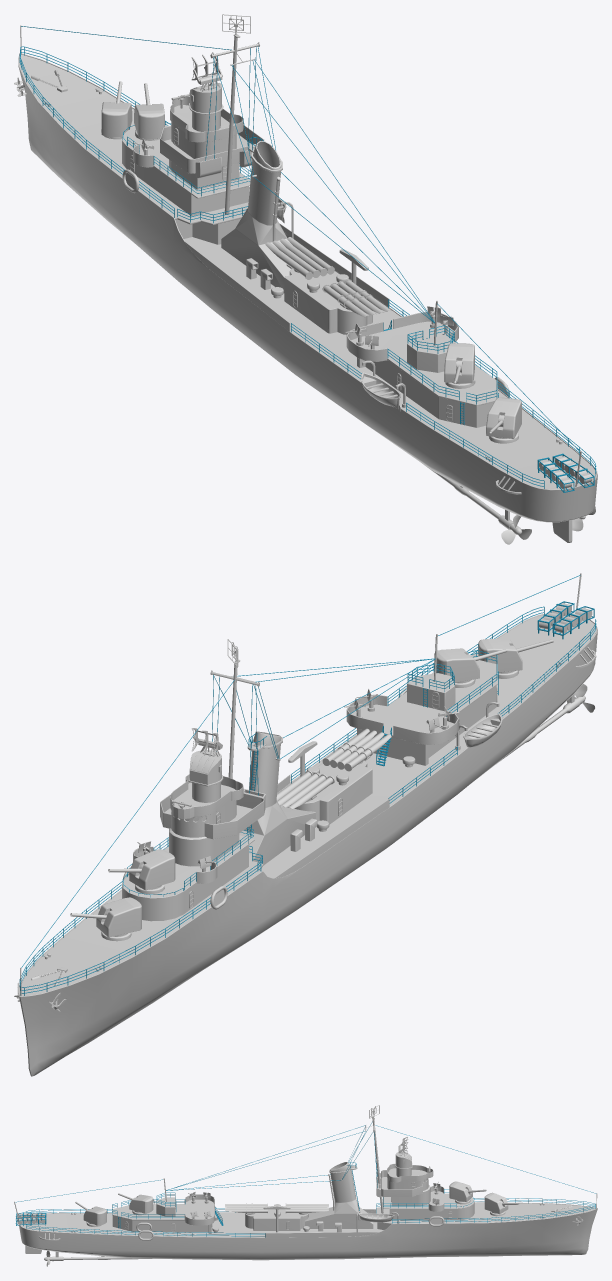
File: sims_class.fbx
3 renders of one model, top to bottom at view 1: azimuth 30°, elevation 25°; view 2: azimuth 150°, elevation 25°; view 3: azimuth 270°, elevation 25°, orthographic. The views are drawn at different scales.
Visible parts, largest first — view 1: sims_class, metal, liny; view 2: sims_class, metal, liny; view 3: sims_class, metal, liny.
Part boxes in pixels (<box>): sims_class: <box>14,14,597,544</box>; metal: <box>19,46,596,492</box>; liny: <box>21,26,579,451</box>; sims_class: <box>14,573,597,1076</box>; metal: <box>19,601,596,995</box>; liny: <box>21,575,580,967</box>; sims_class: <box>14,1105,597,1266</box>; metal: <box>15,1162,595,1237</box>; liny: <box>15,1121,596,1202</box>.
Bounding box in the file's own units: 1232 × 10690 × 3071.
